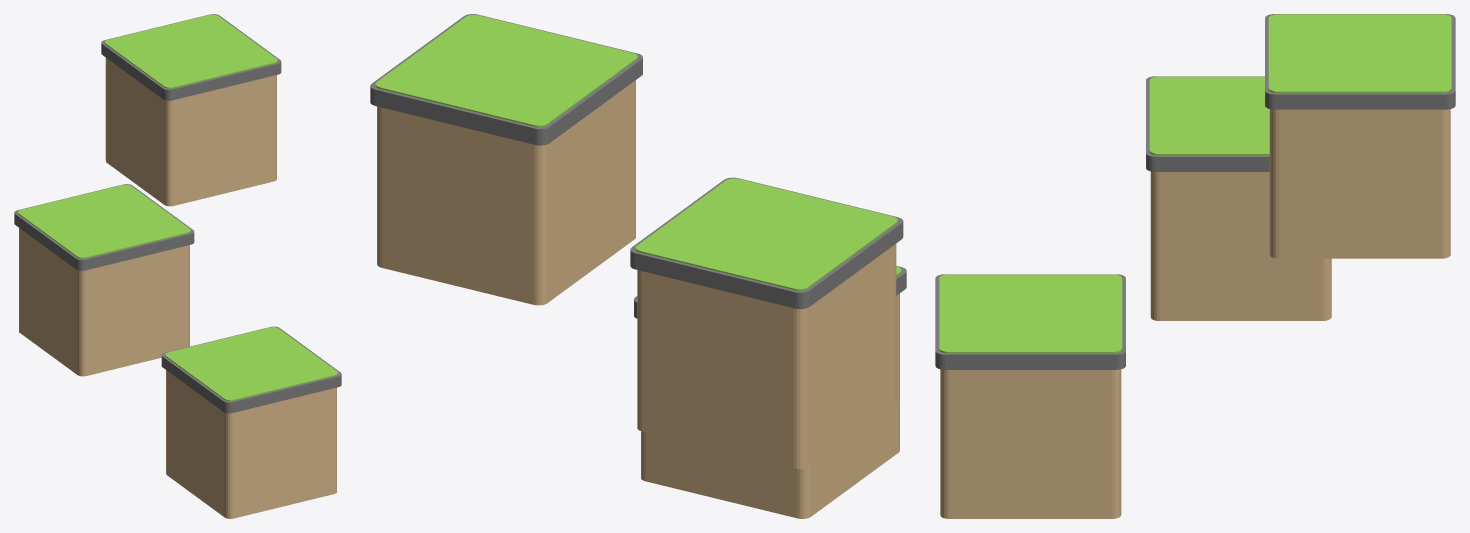
Rendered from world.glb.
The picture shows the model from 3 angles, left to right: view 1: azimuth 30°, elevation 25°; view 2: azimuth 150°, elevation 25°; view 3: azimuth 270°, elevation 25°; orthographic projection. The views are drawn at different scales.
Visible parts, largest first — view 1: platform.002, platform, platform.001; view 2: platform.001, platform.002, platform; view 3: platform, platform.002, platform.001.
Boxes of the visible parts, bbox=[...] form: platform.002: bbox=[101, 14, 281, 206]; platform: bbox=[161, 326, 341, 518]; platform.001: bbox=[14, 184, 194, 376]; platform.001: bbox=[630, 177, 903, 468]; platform.002: bbox=[370, 14, 642, 305]; platform: bbox=[634, 266, 906, 518]; platform: bbox=[935, 274, 1125, 518]; platform.002: bbox=[1265, 14, 1455, 258]; platform.001: bbox=[1146, 76, 1331, 320].
Bounding box in the file's own units: 22.14 × 28.47 × 28.75.
